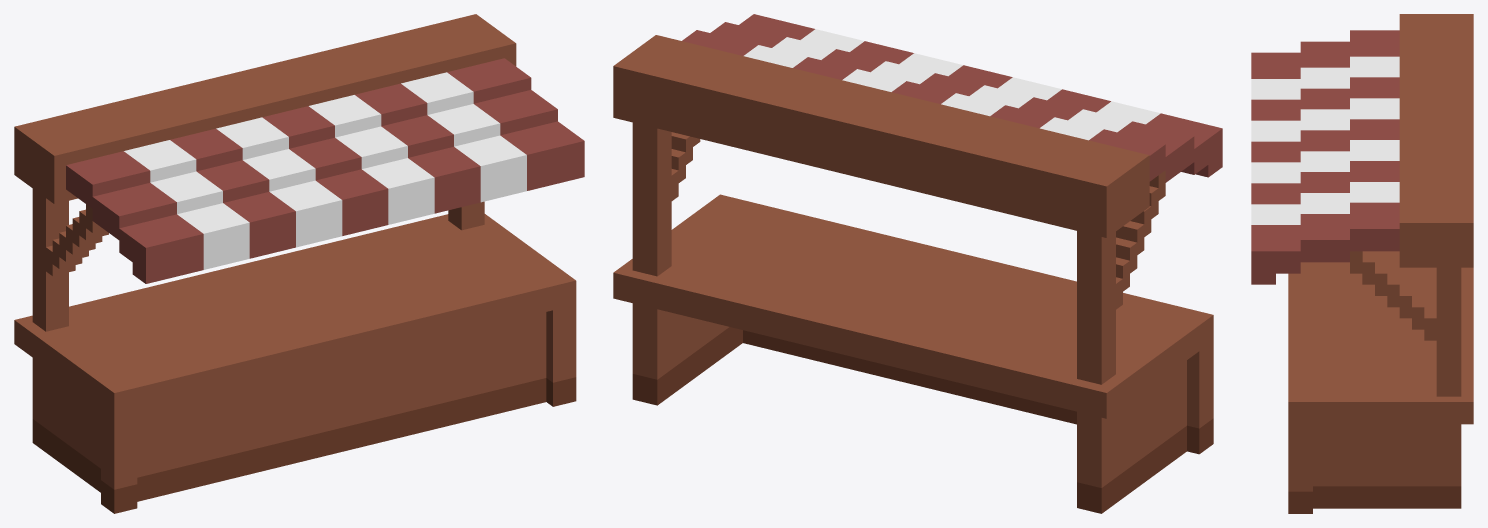
File: village_market_stall_2.glb
3 views of the same model, side by side, from view 1: azimuth 30°, elevation 25°; view 2: azimuth 150°, elevation 25°; view 3: azimuth 270°, elevation 25° (orthographic). The views are drawn at different scales.
Parts seen in each view (by area): view 1: village_market_stall_2; view 2: village_market_stall_2; view 3: village_market_stall_2.
Boxes of the visible parts, x1=… form: village_market_stall_2: x1=14, y1=14, x2=584, y2=513; village_market_stall_2: x1=613, y1=14, x2=1222, y2=513; village_market_stall_2: x1=1251, y1=14, x2=1473, y2=513.
Bounding box in the file's own units: 4 × 2.6 × 1.8.
Materials: 1 (1 with a texture image).
